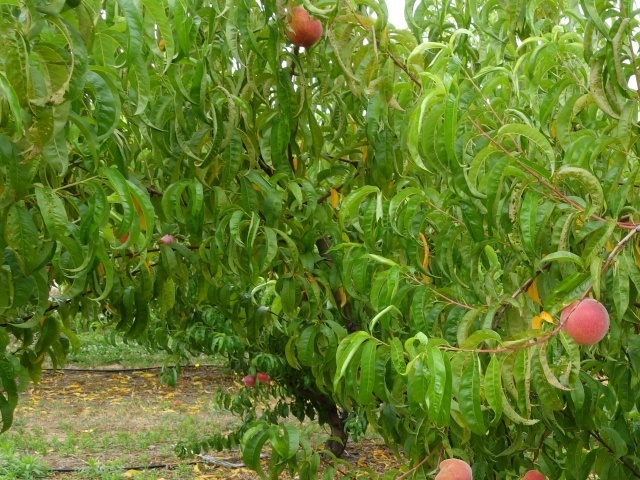peach: (555, 295, 614, 348), (276, 4, 328, 49), (431, 454, 479, 480)
